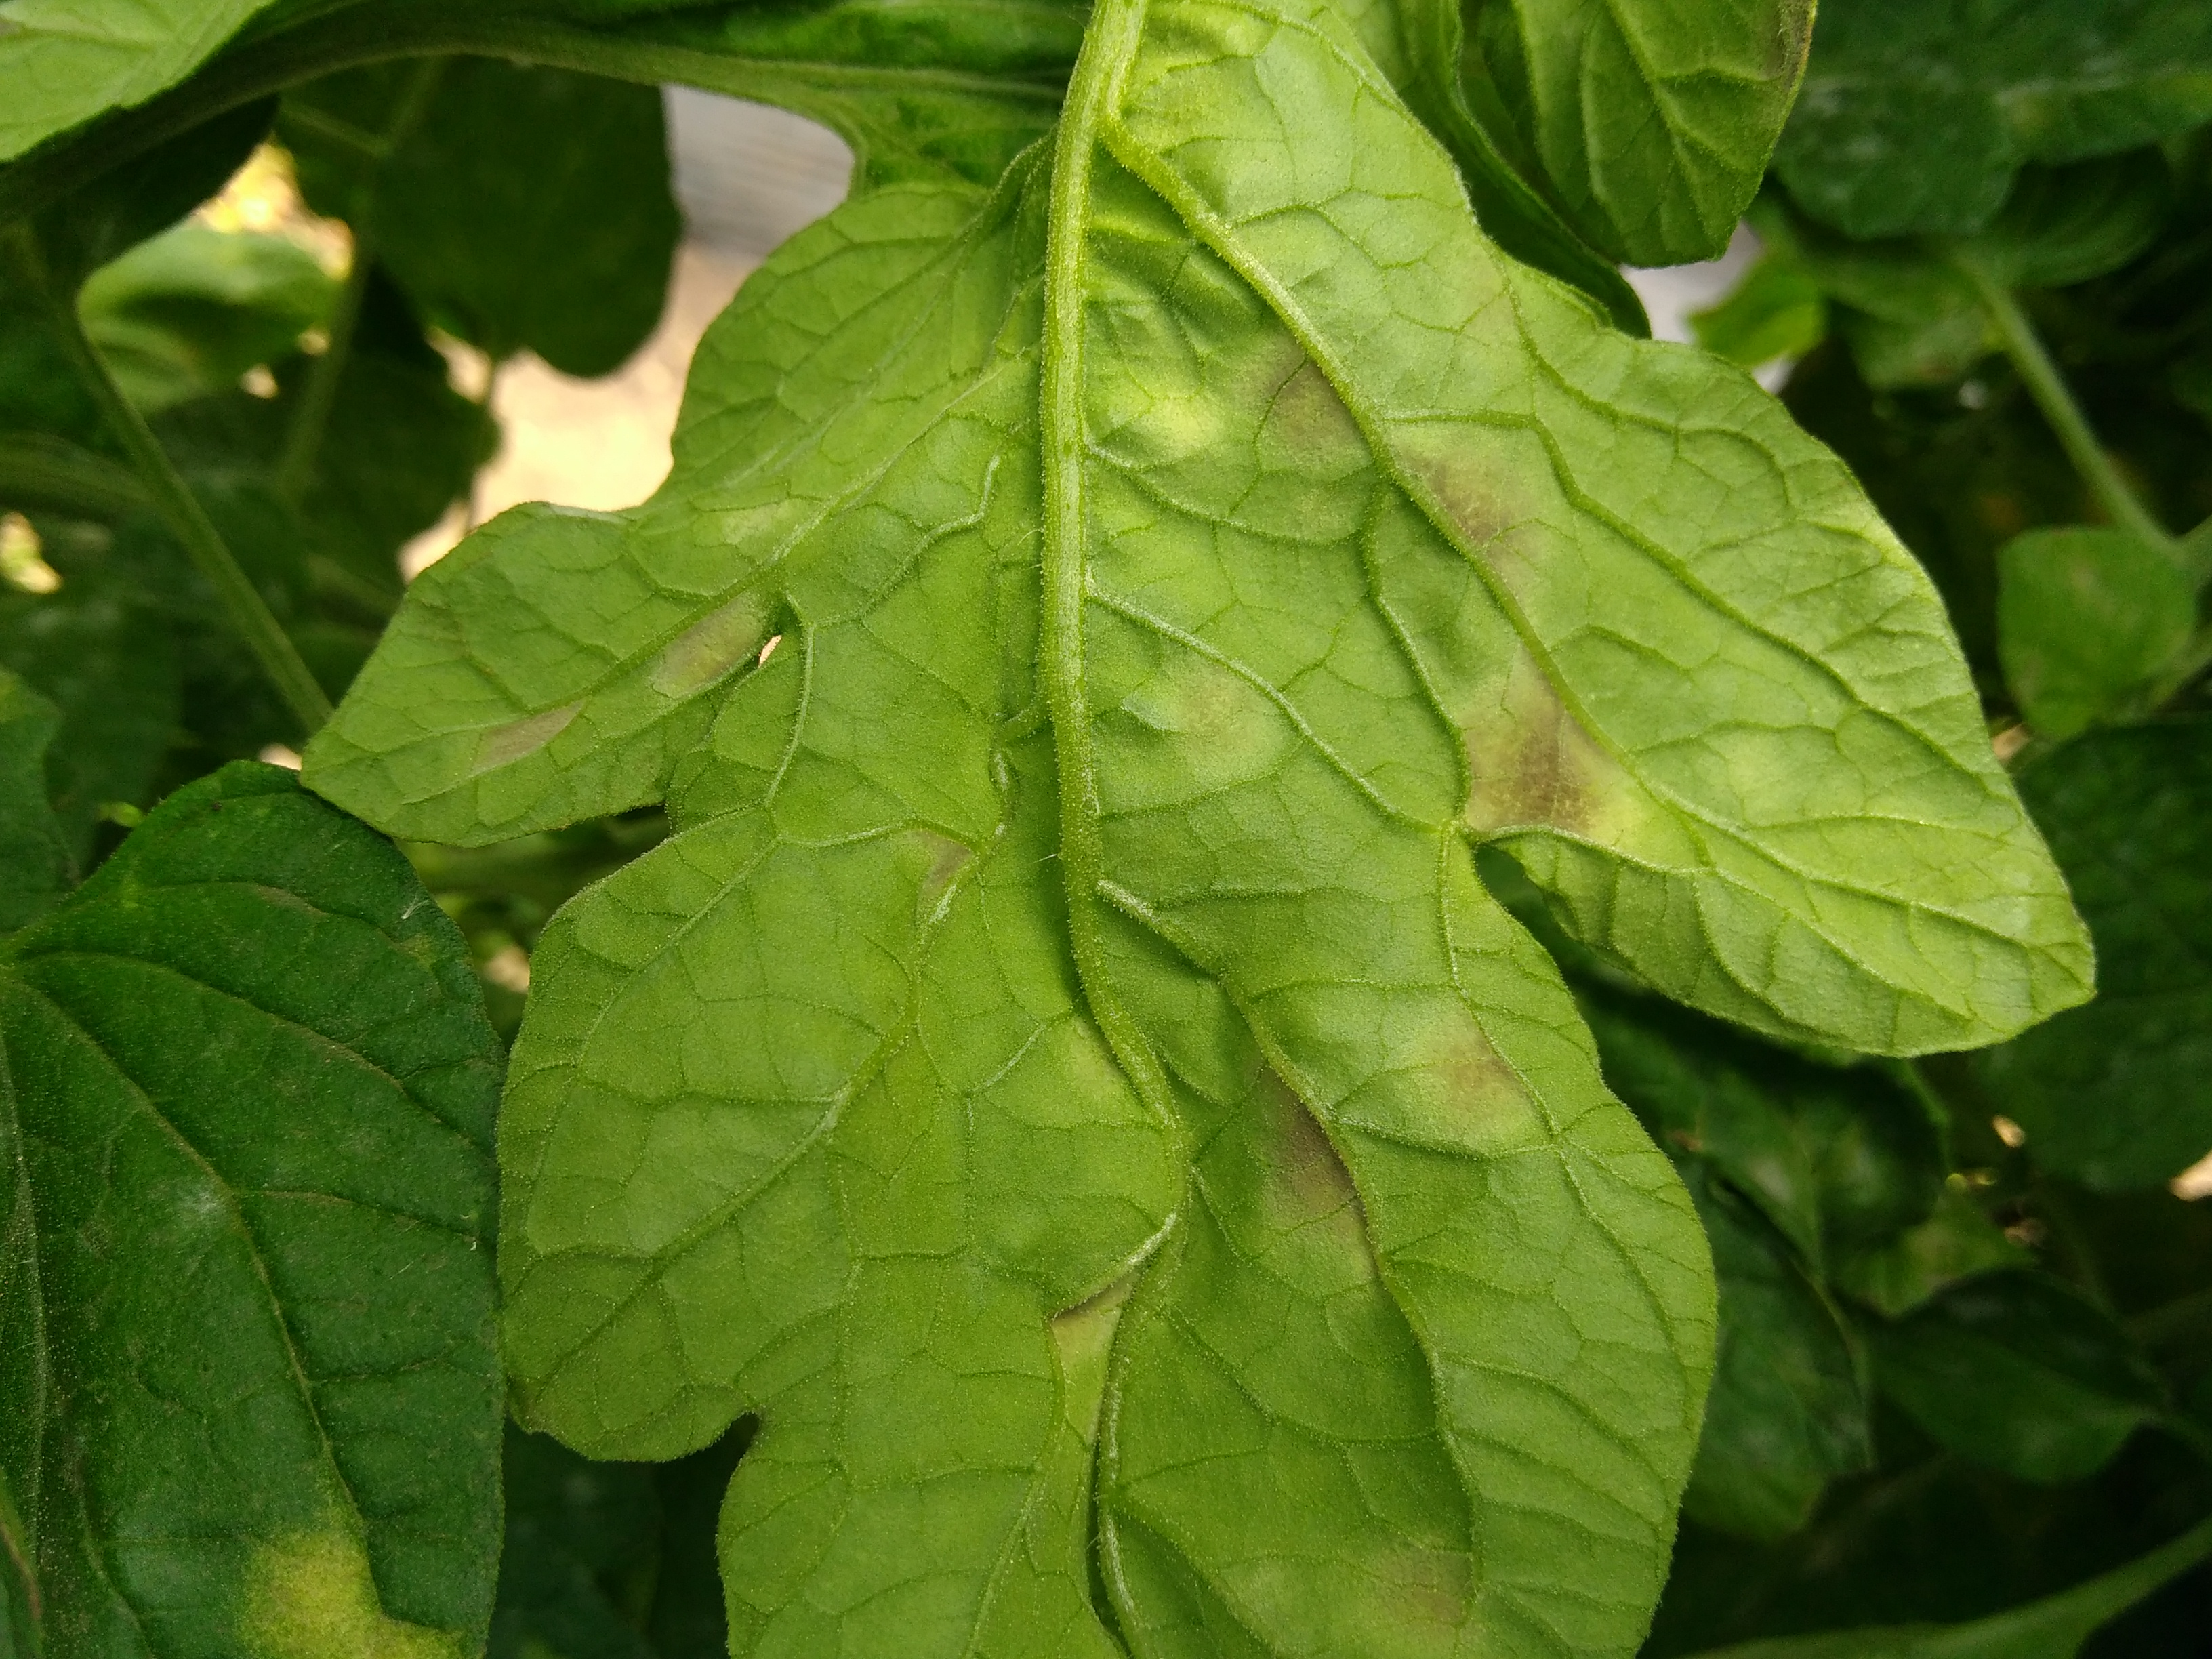negra: (1296, 362, 1514, 558), (1461, 685, 1622, 847), (1393, 1023, 1554, 1131), (1237, 1086, 1352, 1227)
